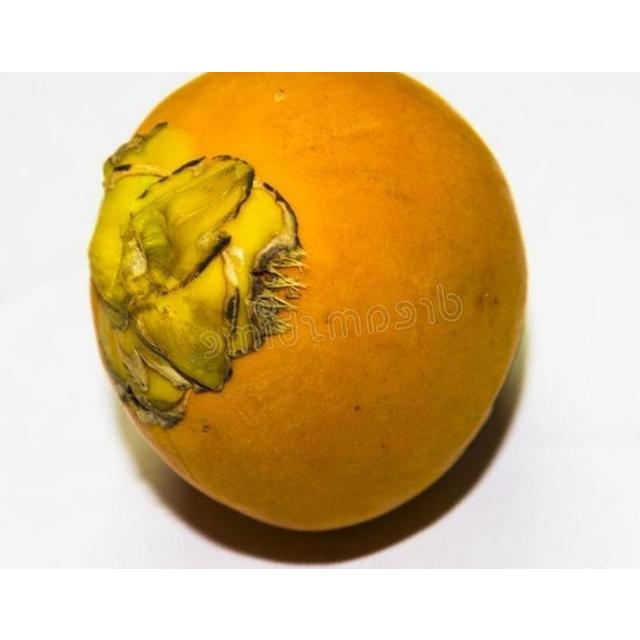good: (87, 71, 529, 535)
